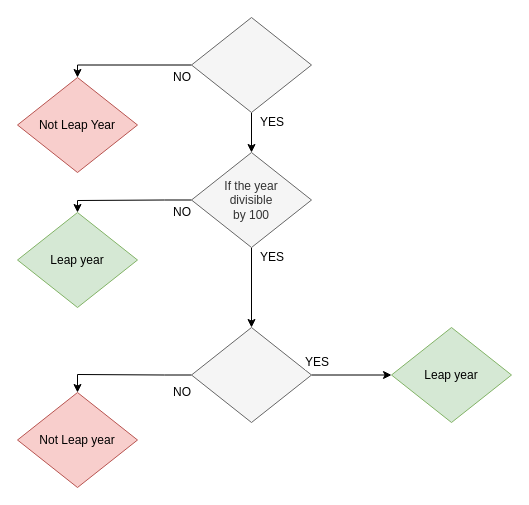
Image size: 529x505. Some labels were removed from this diagram. Here are the shapes that lost their labels. From the top down, the box of each, then its label:
(190, 16, 312, 112): If the year divisible by 4
(190, 326, 312, 422): If the year divisible by 400
